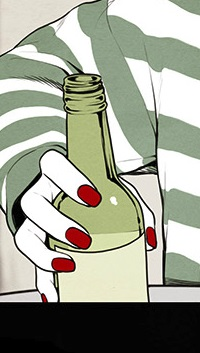bottle: (42, 69, 157, 303)
